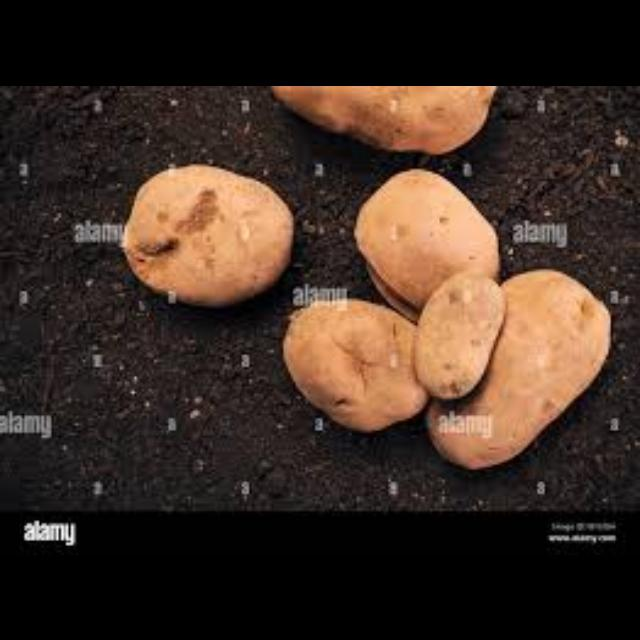Damaged potato: (418, 251, 614, 477), (348, 164, 510, 318), (124, 168, 296, 308), (284, 286, 430, 438), (263, 85, 511, 158), (402, 264, 502, 396)
